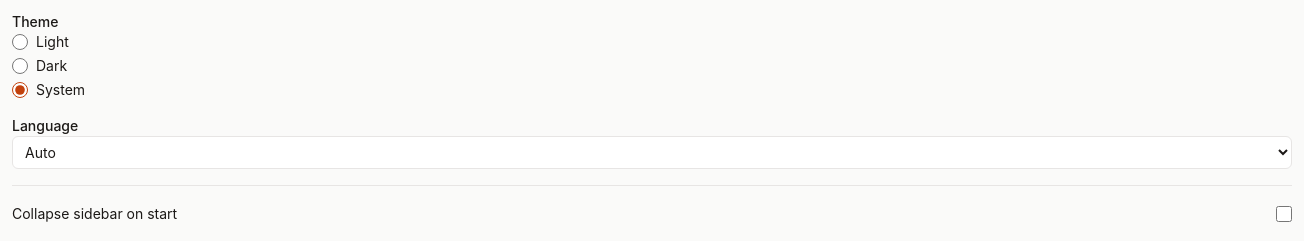
Test: language picker (issue #119, Settings → Appearance) › selecting Español persists "es", flips the locale and <html lang>, and relabels the tab in place
Check: the text "Theme" is shown, box [12,12,58,32]
Select "Español" in the dropdown named "Language" at (652, 152), box [12,136,1292,169]
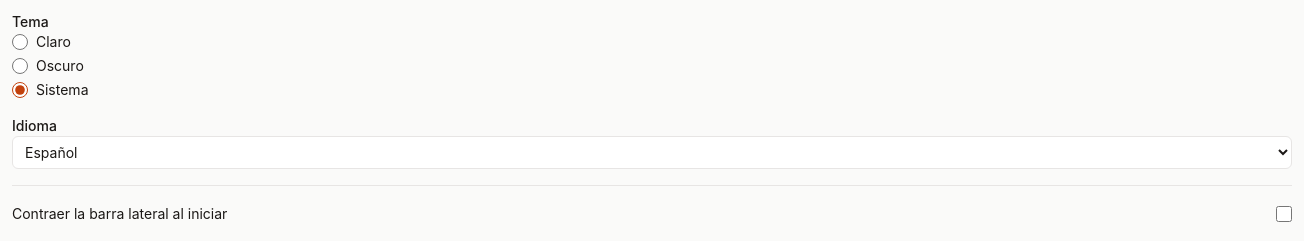
Check: the text "Theme" is gone
Check: the text "Tema" is shown, box [12,12,49,32]
Check: the text "Contraer la barra lateral al iniciar" is shown, box [12,204,227,224]
